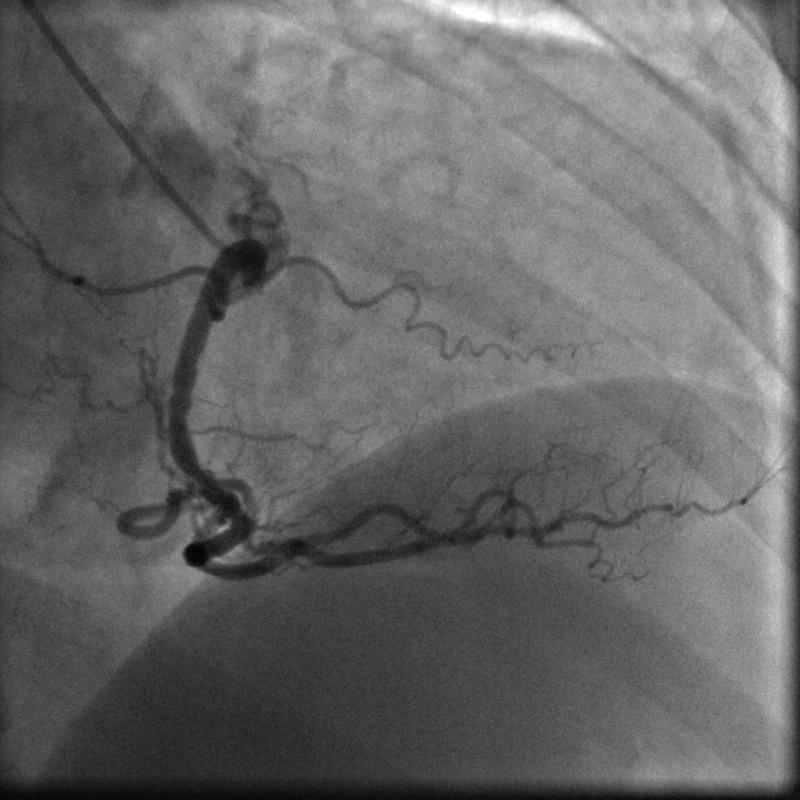Stenosis: (171, 461, 228, 499)
